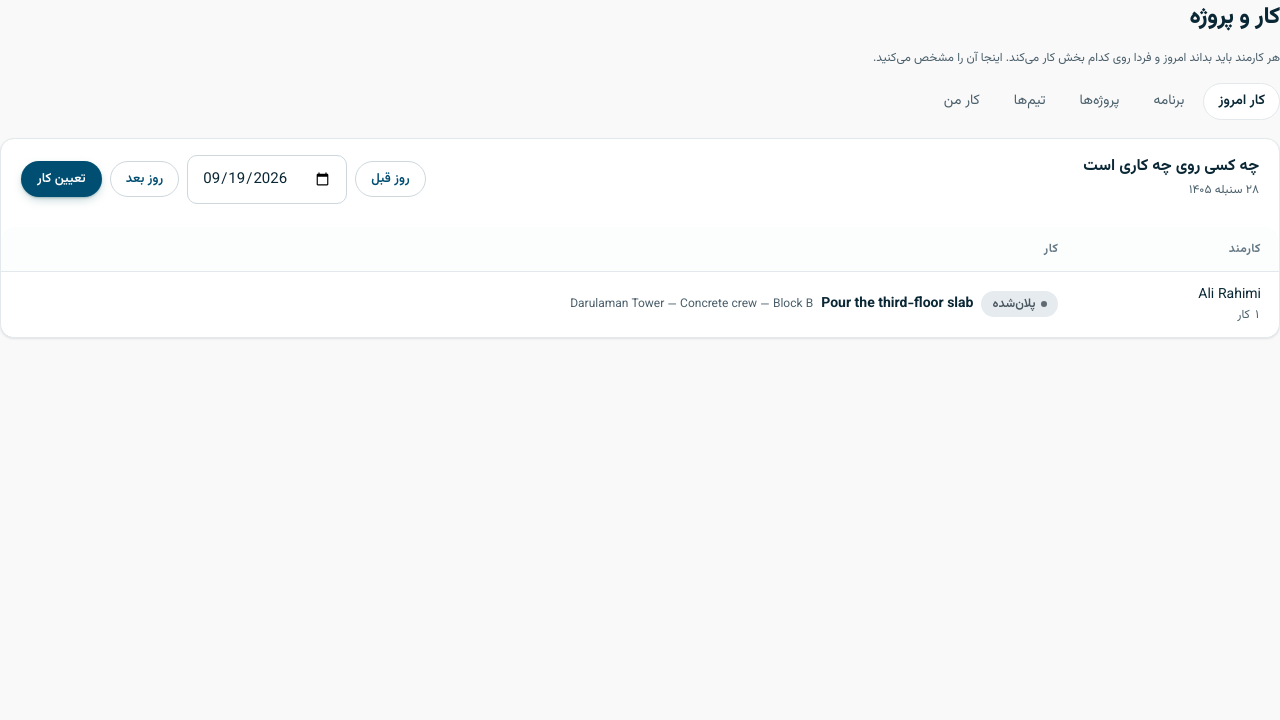
Test: assigning work › will not save a task with no project or no title
Click the button "تعیین کار" at (61,179), box [21, 161, 102, 197]
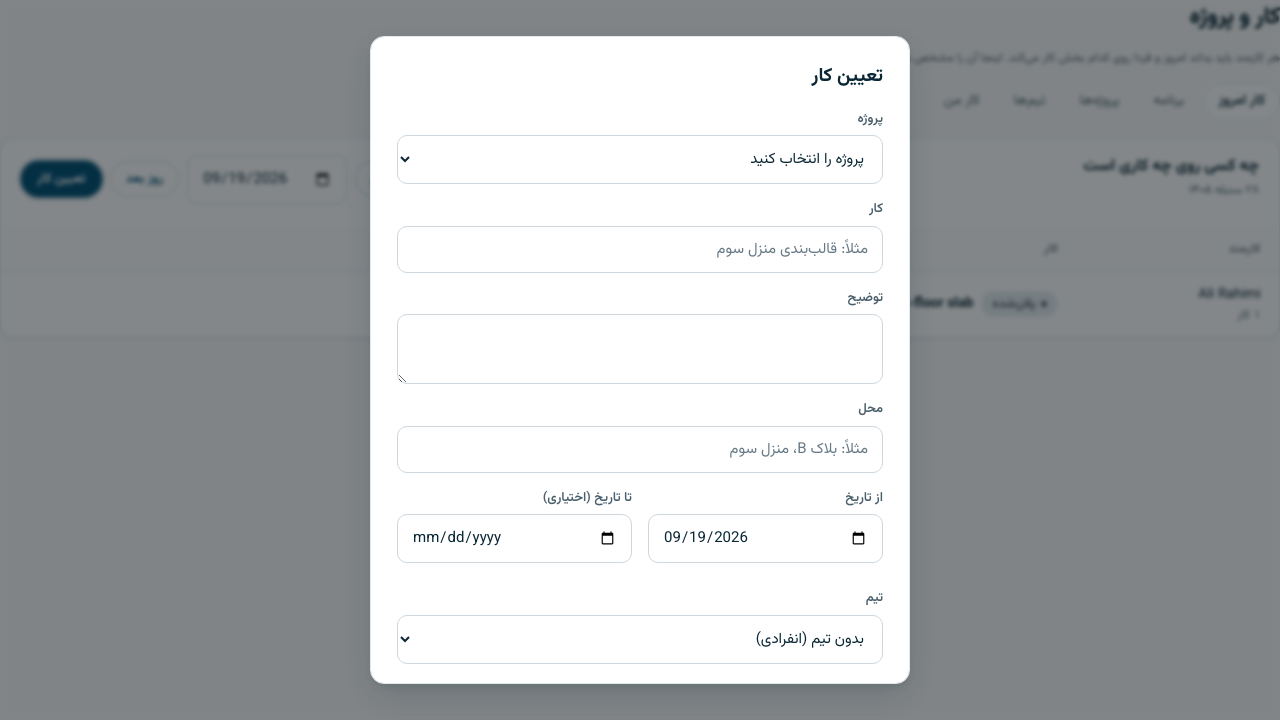
Select "Darulaman Tower" in the dropdown labelled "پروژه" at (640,160), box [397, 135, 883, 184]
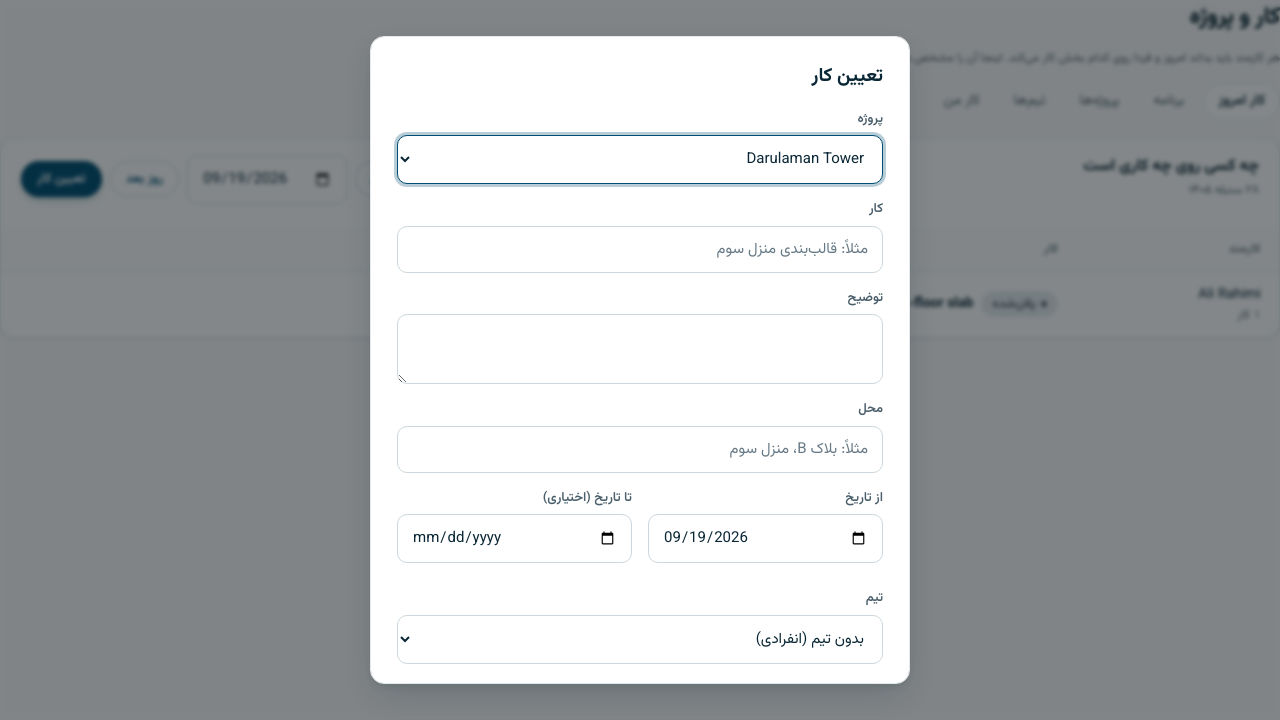
Type "Something" into the field labelled "کار" at (640,249), box [397, 226, 883, 272]
(page scrolled)
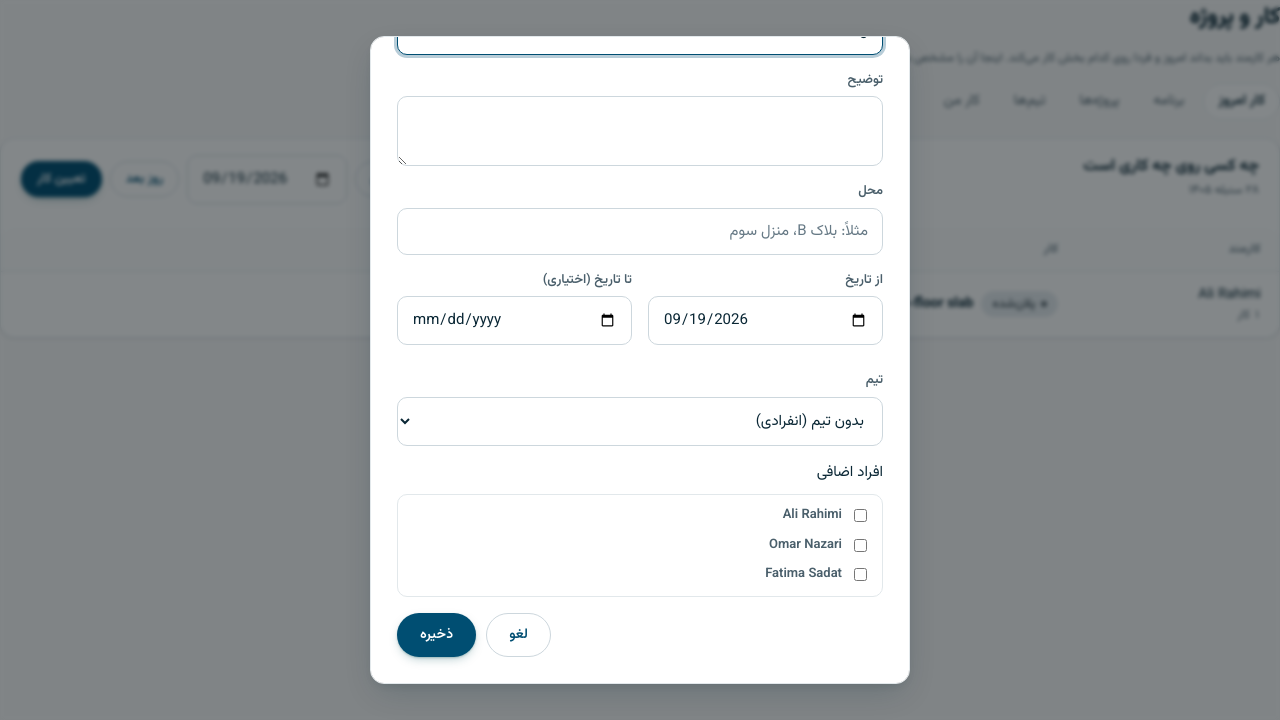
Now the button "ذخیره" is enabled, box [397, 612, 476, 656]
